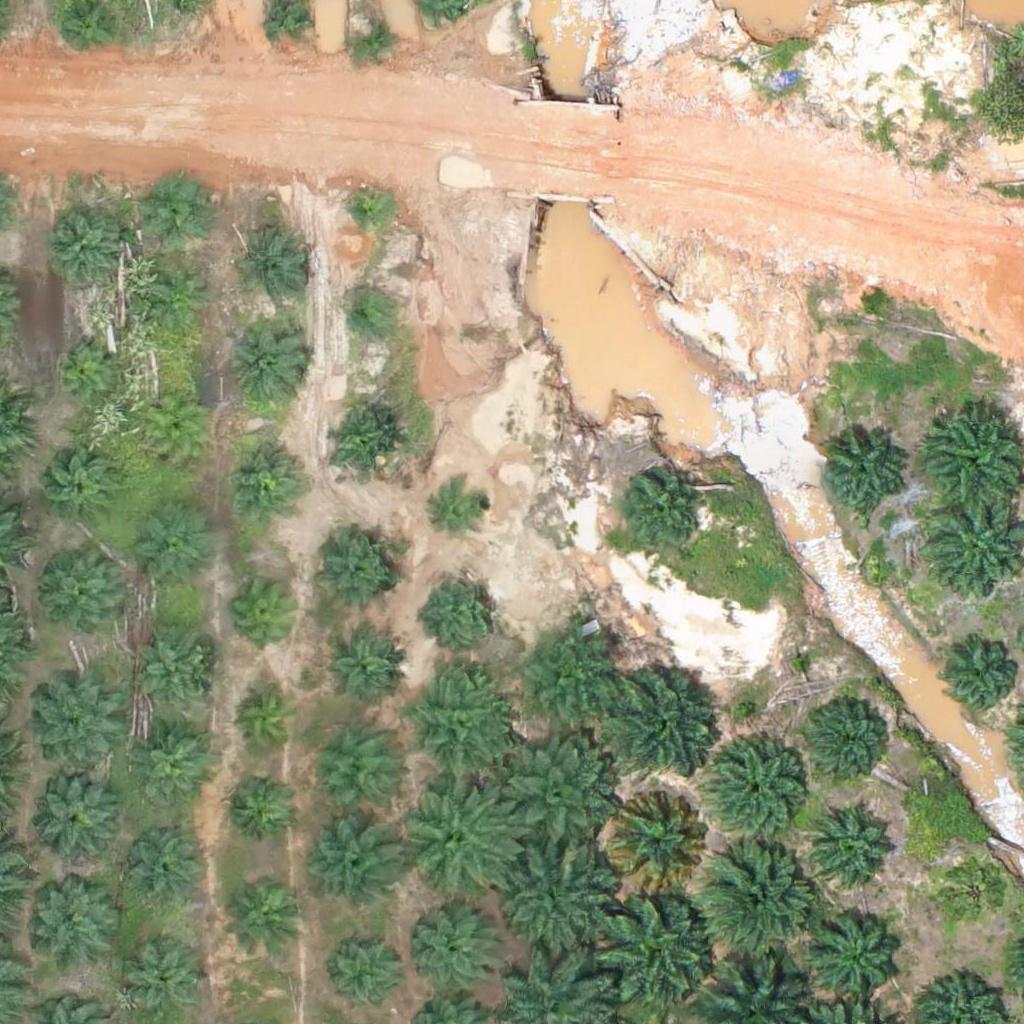Kelapa_Sawit: (396, 771, 521, 897), (599, 656, 724, 782), (593, 890, 718, 1016), (496, 837, 621, 963), (695, 832, 820, 958), (488, 736, 613, 861), (601, 785, 714, 898), (513, 619, 625, 733), (702, 735, 814, 849), (403, 671, 515, 784), (410, 896, 510, 997), (803, 900, 903, 1001), (302, 727, 402, 827), (316, 532, 404, 620), (128, 725, 216, 813), (34, 682, 122, 770), (31, 771, 119, 859), (819, 430, 907, 518), (40, 551, 127, 640), (320, 629, 407, 717), (618, 471, 705, 559), (311, 817, 398, 905), (127, 633, 214, 721), (119, 827, 206, 915), (25, 882, 112, 970), (43, 204, 130, 292), (811, 800, 898, 888), (806, 695, 893, 783), (233, 226, 308, 302), (324, 407, 399, 483), (227, 882, 302, 958), (222, 771, 297, 847), (228, 683, 303, 759), (426, 570, 501, 646), (233, 323, 308, 399), (937, 853, 1012, 929), (41, 450, 116, 525), (138, 514, 213, 589), (225, 441, 300, 516), (231, 574, 306, 649), (333, 938, 408, 1013), (146, 176, 209, 239), (142, 398, 205, 461), (152, 272, 214, 335), (431, 479, 493, 542), (51, 338, 113, 400), (350, 13, 400, 64), (343, 187, 393, 237), (339, 294, 389, 344)
